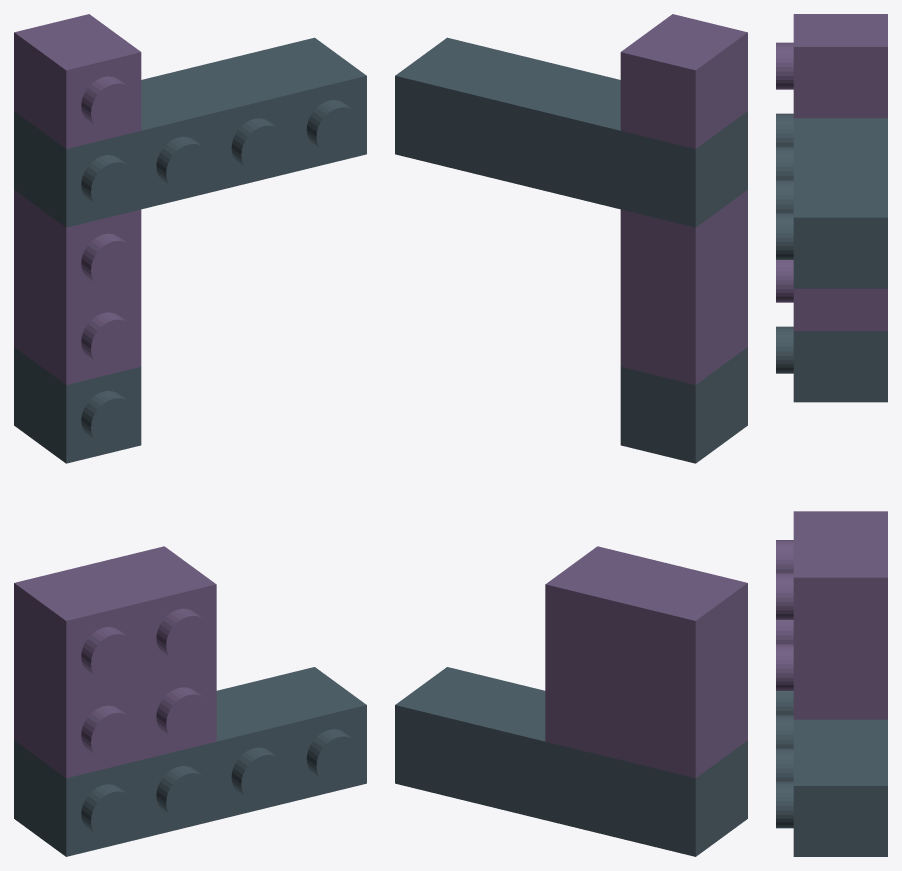
File: current.glb
3 renders of one model, left to right at view 1: azimuth 30°, elevation 25°; view 2: azimuth 150°, elevation 25°; view 3: azimuth 270°, elevation 25°, orthographic. The views are drawn at different scales.
Parts seen in each view (by area): view 1: world; view 2: world; view 3: world.
Part boxes in pixels (bbox=[...]): world: bbox=[14, 14, 366, 856]; world: bbox=[395, 14, 747, 856]; world: bbox=[776, 14, 887, 856].
Bounding box in the file's own units: 32 × 80 × 11.4.
